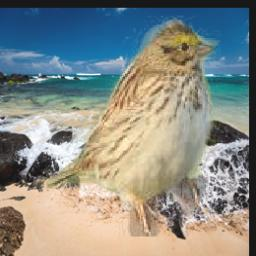Sparrow: (45, 17, 222, 238)
